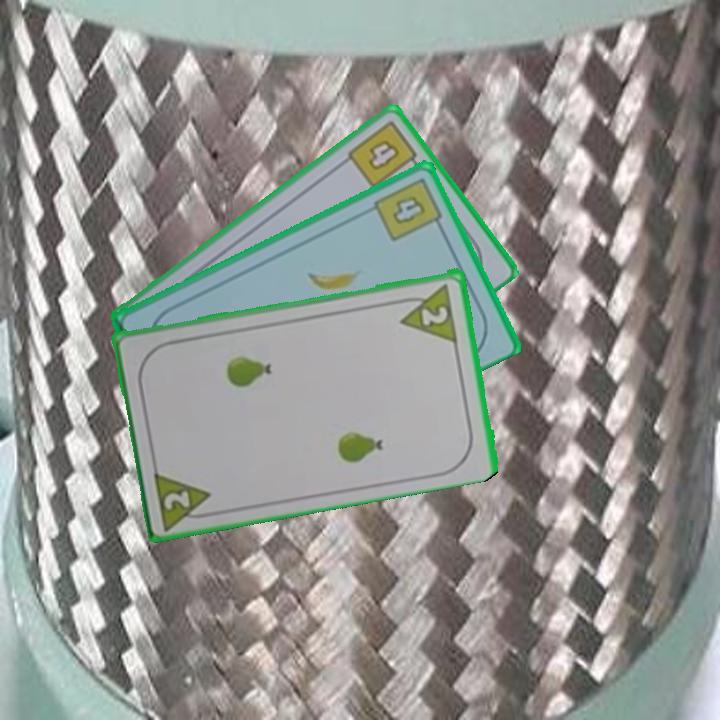2p: (150, 466, 219, 531), (394, 279, 461, 344)
4b: (343, 116, 424, 191), (369, 174, 447, 244)
